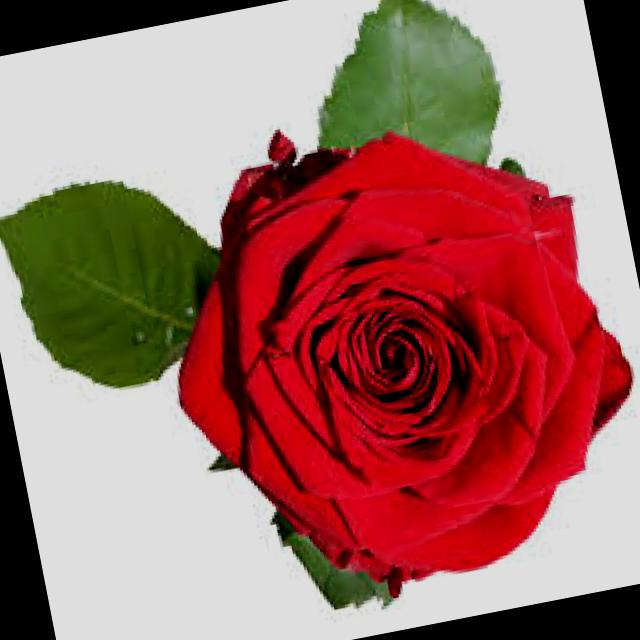rose: (120, 69, 640, 640)
